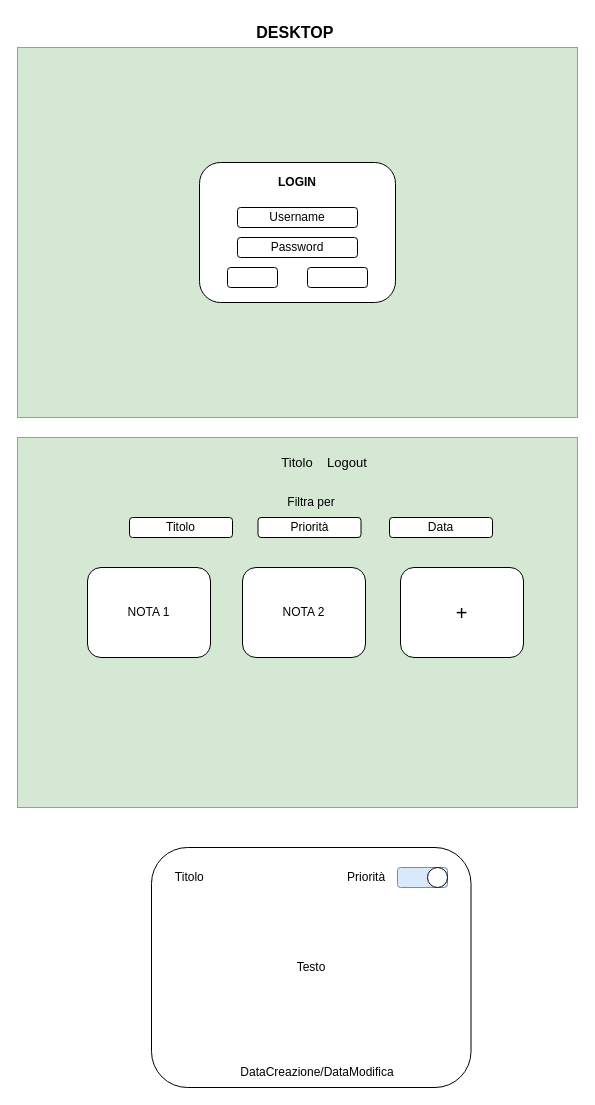
Image size: 595x1105. Some labels were removed from this diagram. Here are the shapes that lost their labels. From the top down, the centre of each, then its label:
At (252,277): "Accedi".
At (337,277): "Registrati".
